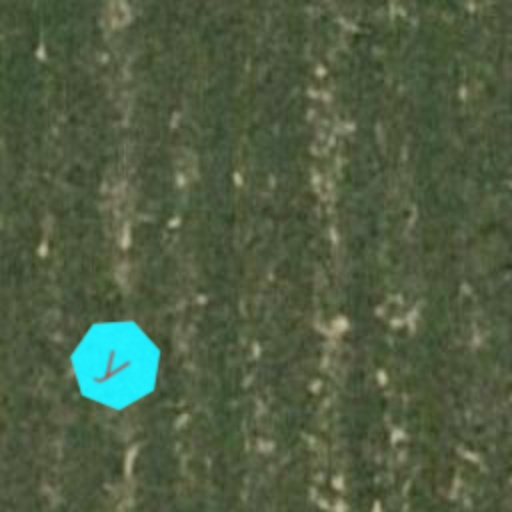heptagon: (50, 298, 182, 430)
